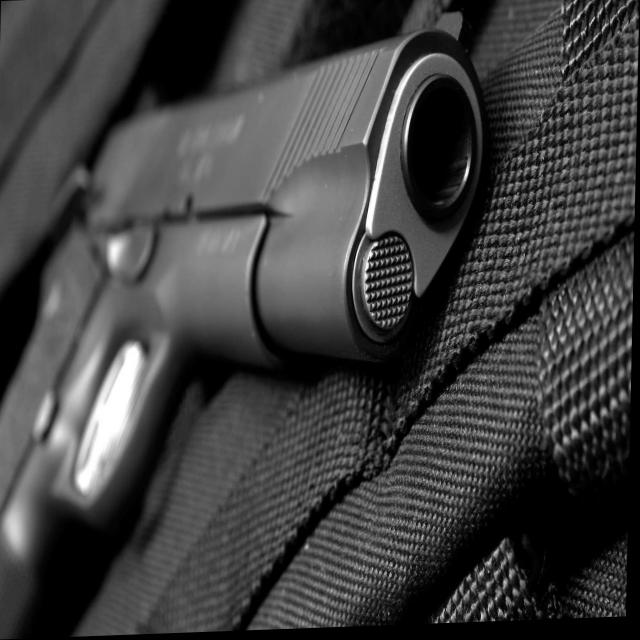handgun: (0, 11, 491, 640)
